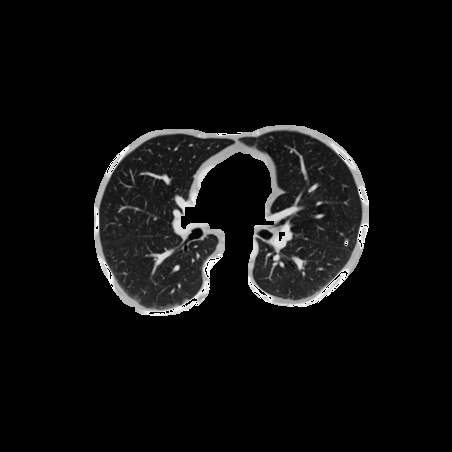PN: (343, 240, 349, 246)
